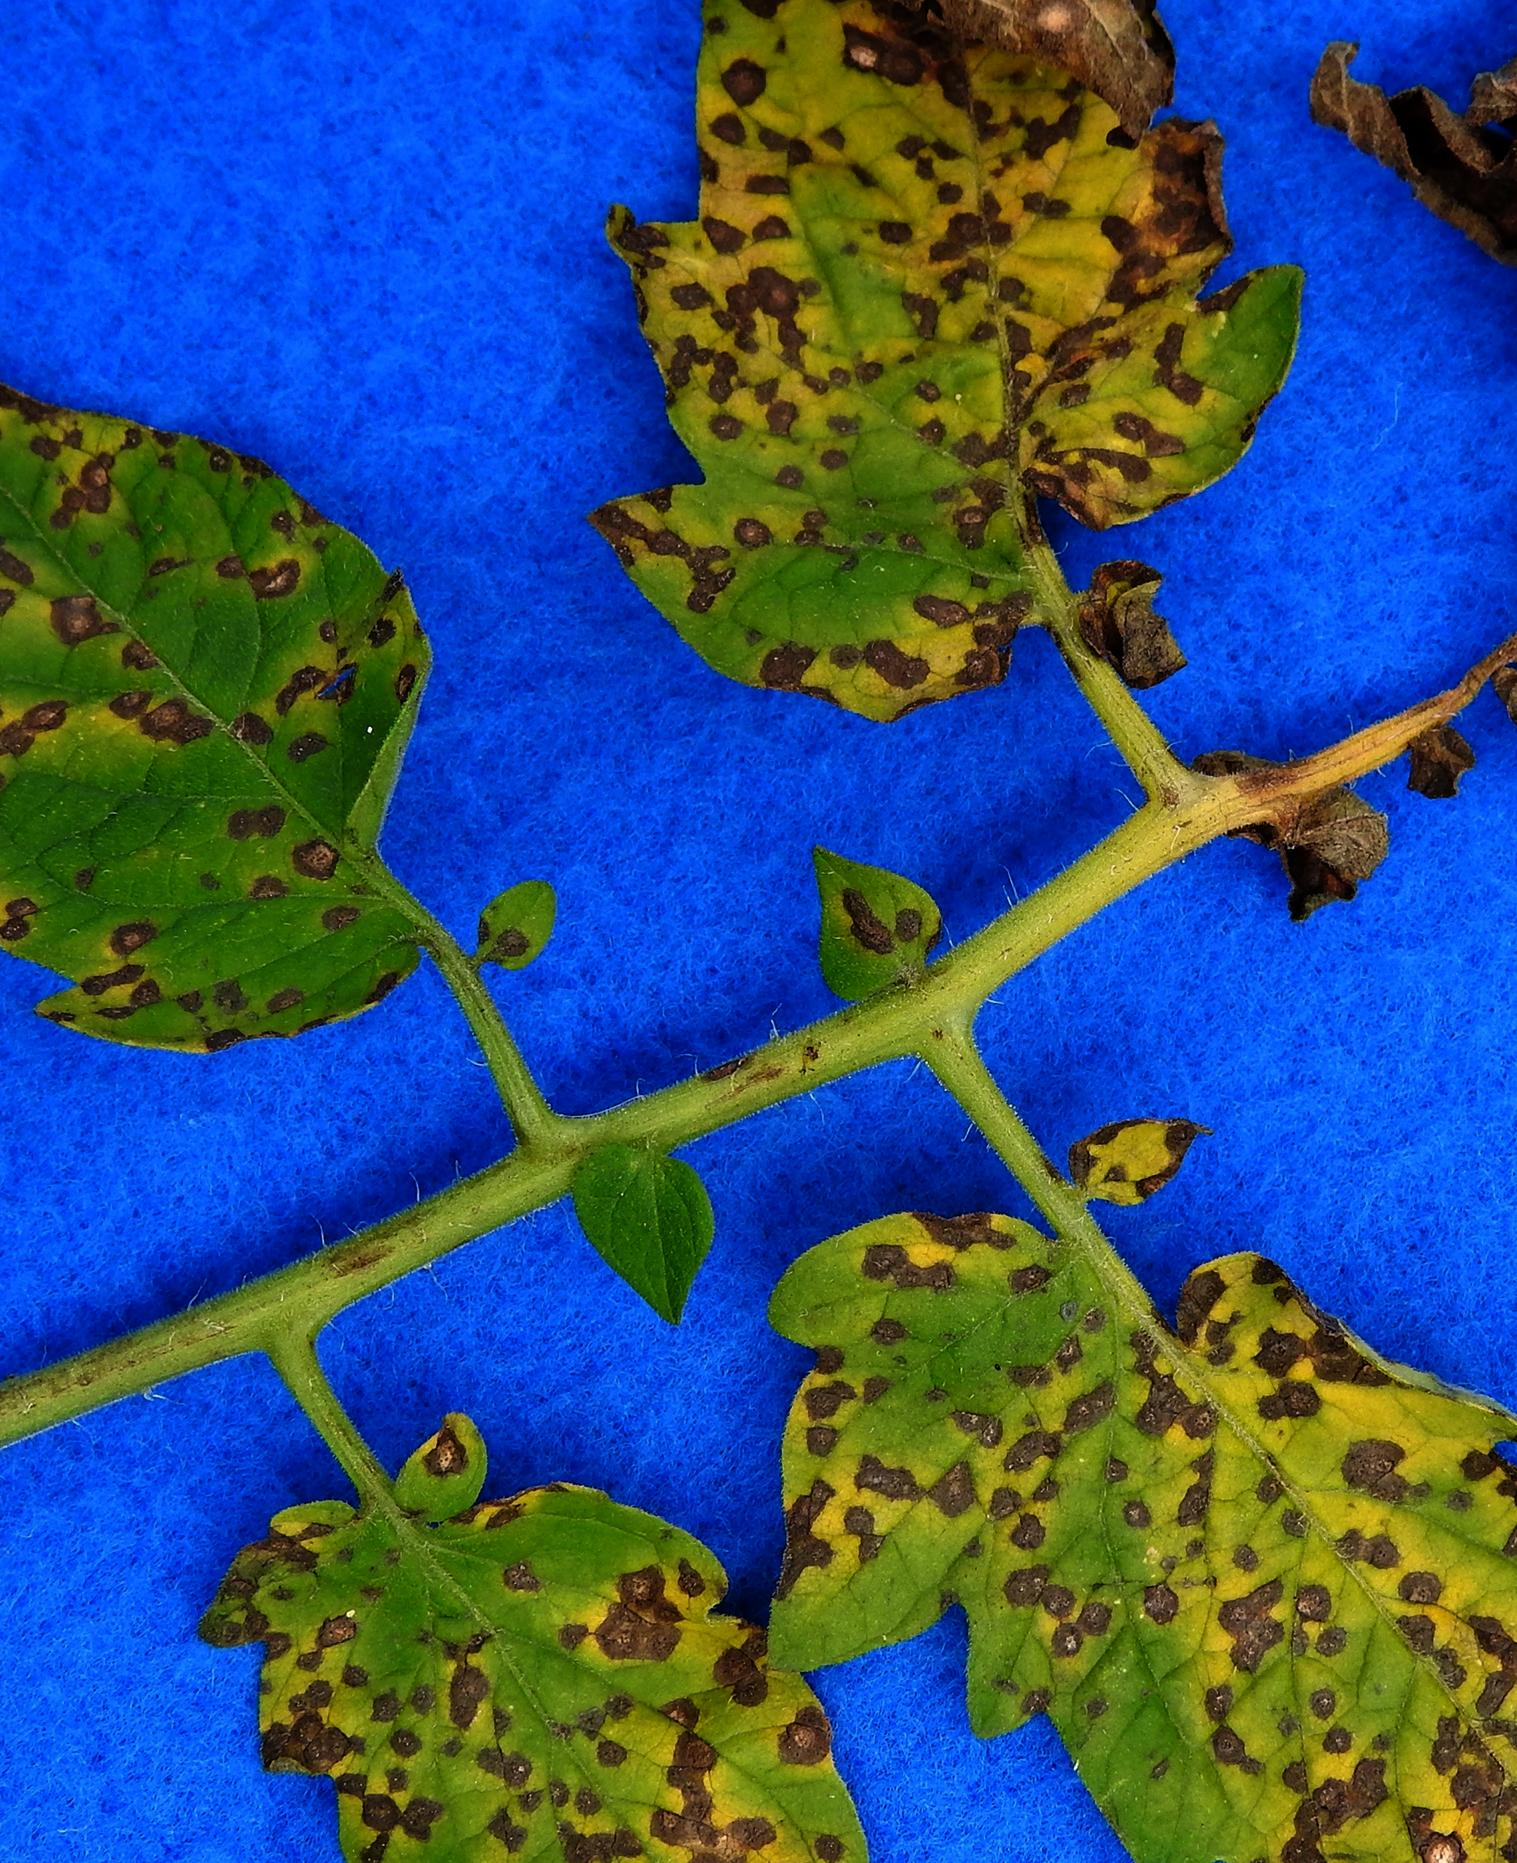Tomato Septoria leaf spot: (594, 0, 1364, 715), (766, 1152, 1517, 1863), (0, 258, 476, 1127), (207, 1413, 905, 1863)
